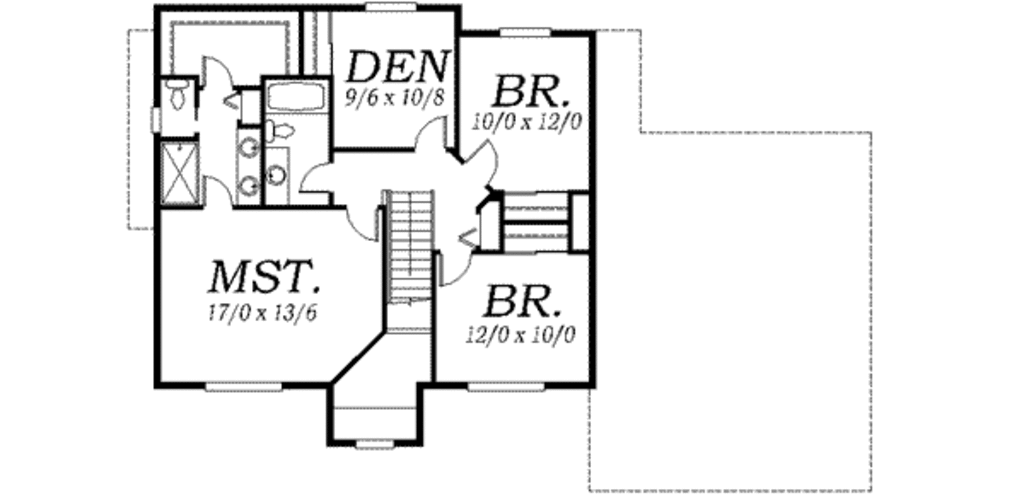door: (402, 113, 457, 160), (434, 247, 482, 291), (294, 152, 335, 195), (462, 138, 503, 181), (197, 175, 241, 214), (339, 206, 382, 244), (193, 56, 234, 89)
large_sink: (161, 77, 197, 116), (257, 114, 297, 142)
small_sink: (236, 124, 266, 205), (263, 145, 296, 207)
stairs: (382, 185, 442, 337)
tub: (263, 74, 330, 115)
window: (459, 378, 552, 394), (359, 2, 424, 17), (346, 435, 397, 454), (496, 21, 553, 38), (201, 380, 281, 392), (146, 106, 164, 138)
